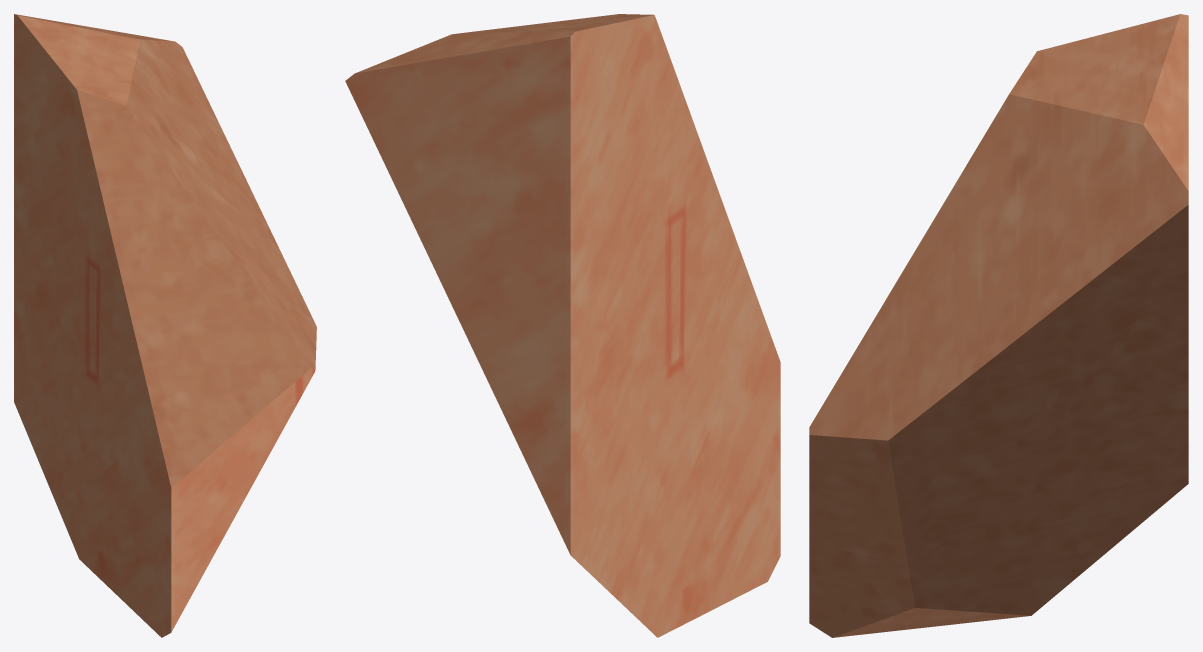
File: townwall_tower_s12.fbx
3 views of the same model, side by side, from view 1: azimuth 30°, elevation 25°; view 2: azimuth 150°, elevation 25°; view 3: azimuth 270°, elevation 25° (orthographic). The views are drawn at different scales.
Parts seen in each view (by area): view 1: townwall_tower_s12; view 2: townwall_tower_s12; view 3: townwall_tower_s12.
Part boxes in pixels (x1,y1,x2,y2): townwall_tower_s12: [14, 14, 316, 637]; townwall_tower_s12: [345, 14, 780, 637]; townwall_tower_s12: [809, 14, 1188, 637].
Bounding box in the file's own units: 4.32 × 11.97 × 6.6.
